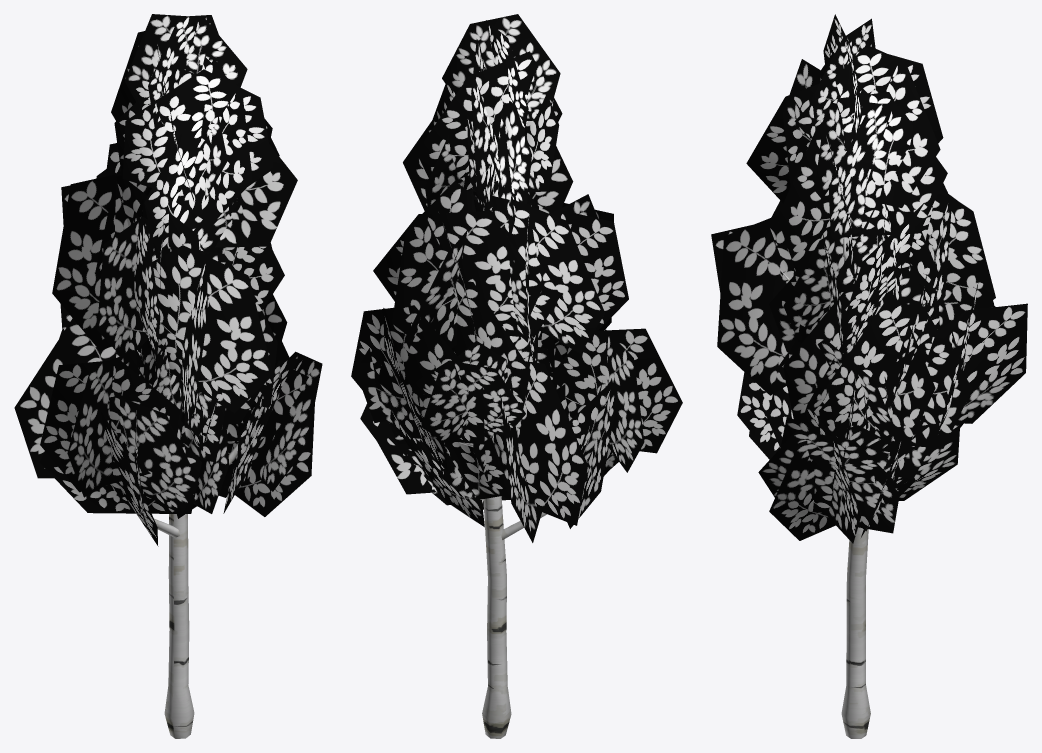
The model's file is P_BirchSapling2.obj.
3 views of the same model, side by side, from view 1: azimuth 30°, elevation 25°; view 2: azimuth 150°, elevation 25°; view 3: azimuth 270°, elevation 25° (orthographic).
Bounding box in the file's own units: 4.5 × 10.93 × 4.38.
